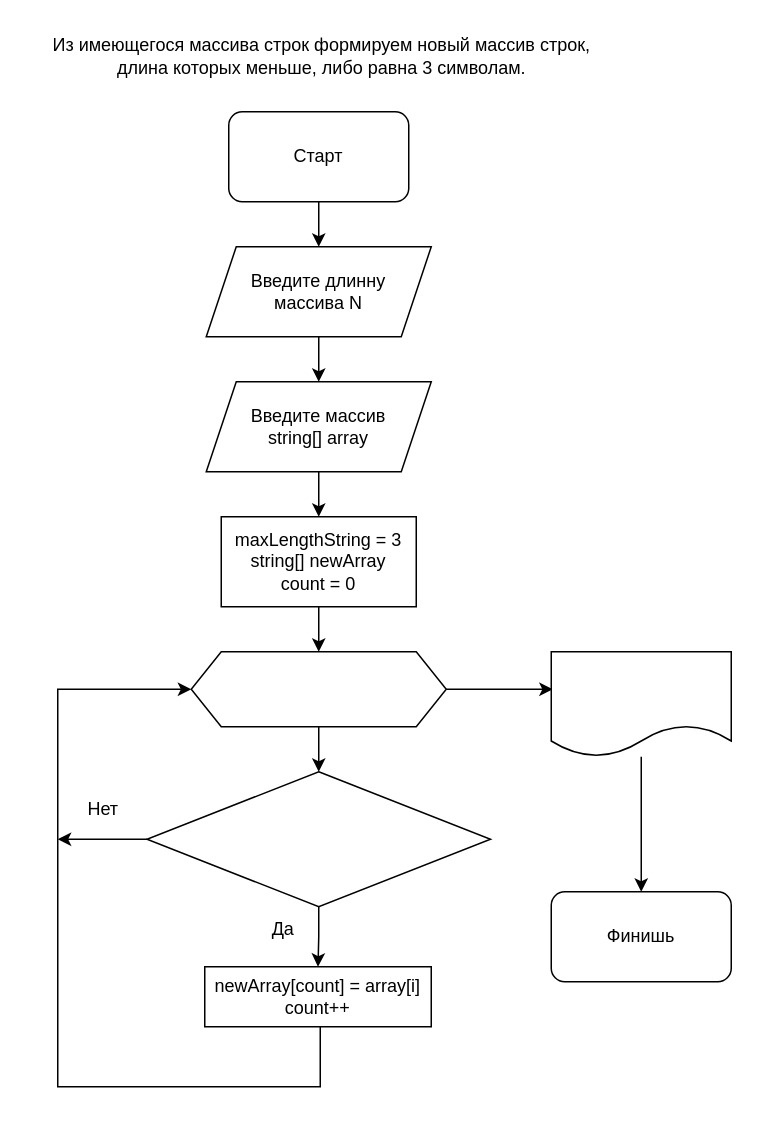
Image size: 758x1125. Some labels were removed from this diagram. The shapes that lost their labels are listed below. From the top down, each one's centre as x and y in pixels, then its label:
(x=318, y=688): i = 0, array.Length, 1
(x=640, y=703): newArray[]
(x=318, y=838): array[i].Lenght < maxLengthString
